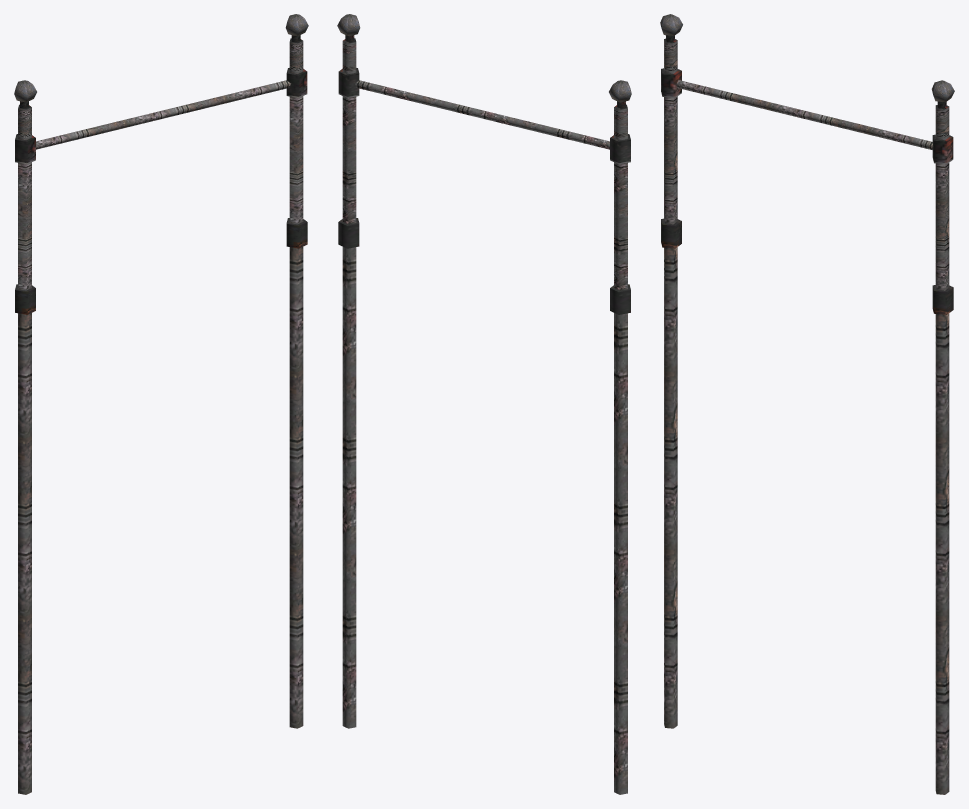
File: mun_corl_imprv_bannerpole_s01.fbx
3 renders of one model, left to right at view 1: azimuth 30°, elevation 25°; view 2: azimuth 150°, elevation 25°; view 3: azimuth 330°, elevation 25°, orthographic.
Visible parts, largest first — view 1: mesh_node; view 2: mesh_node; view 3: mesh_node.
Boxes of the visible parts, bbox=[...] form: mesh_node: bbox=[14, 14, 308, 794]; mesh_node: bbox=[337, 14, 631, 794]; mesh_node: bbox=[660, 14, 954, 794].
Size of the model in its own units: 2.14 by 5.01 by 0.1509.
1 material, 1 textured.
